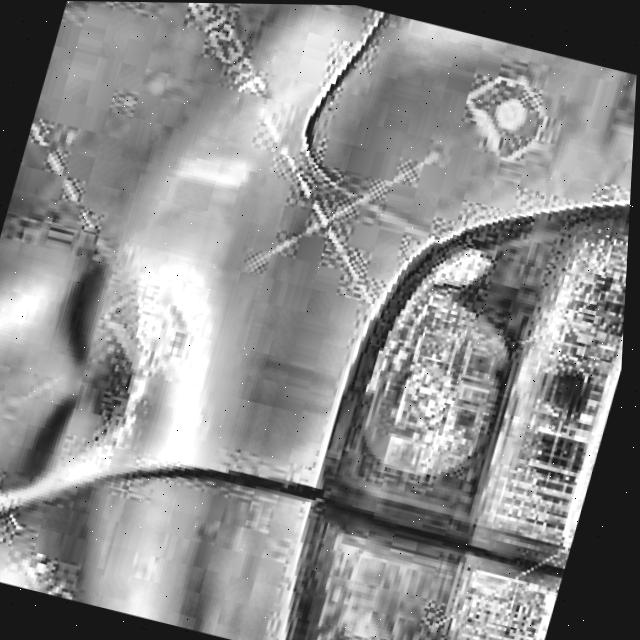bumper_dent: (115, 210, 301, 471), (0, 446, 242, 633), (0, 251, 138, 490)
tail_lamp: (340, 230, 529, 494)
